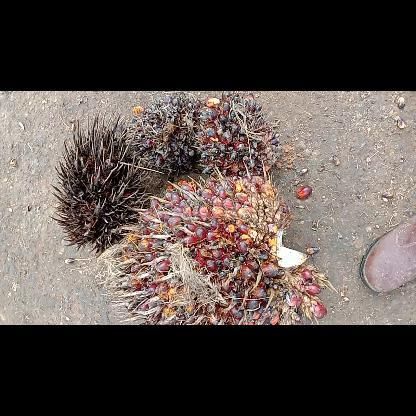Janjang kosong: (46, 110, 154, 256)
TBS abnormal: (192, 92, 284, 176), (128, 94, 202, 178)
TBS masak: (90, 172, 330, 324)
